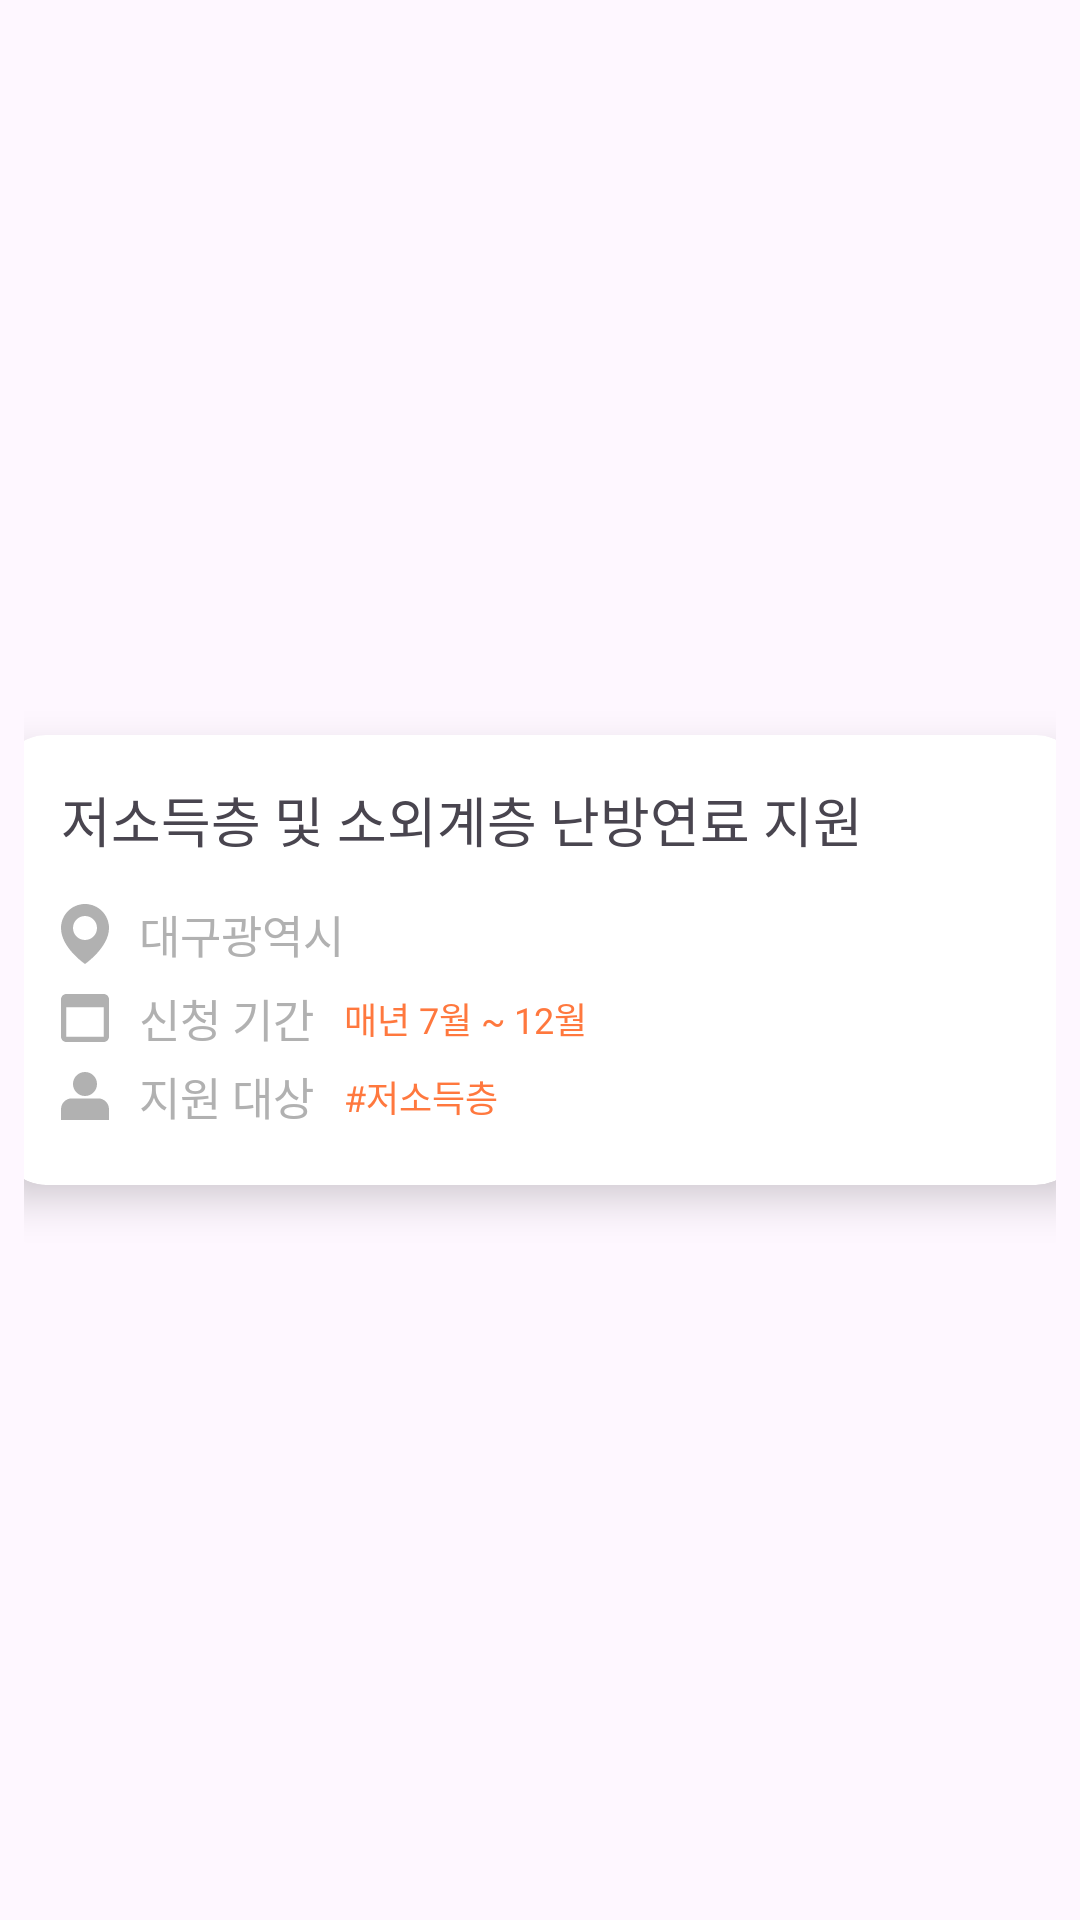

Named icons in this screenshot (1080 × 1920) and their centers, point (x, y):
area: point (85, 934)
date: point (85, 1018)
people: point (85, 1096)
